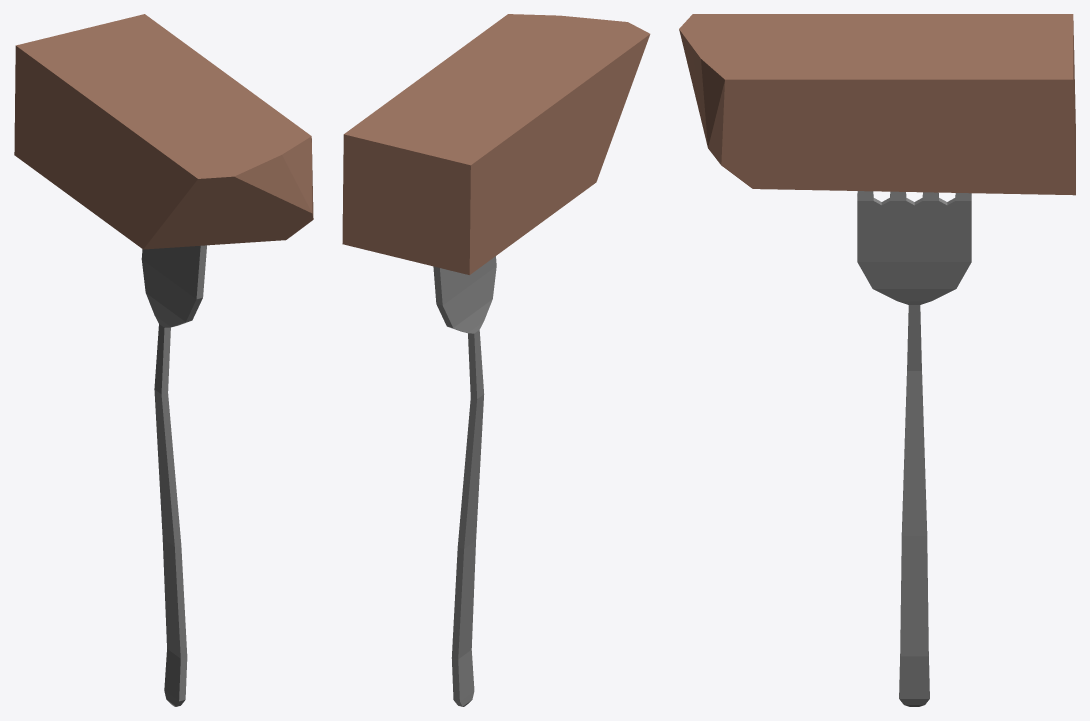
File: hammer.glb
3 renders of one model, left to right at view 1: azimuth 30°, elevation 25°; view 2: azimuth 150°, elevation 25°; view 3: azimuth 270°, elevation 25°, orthographic. The views are drawn at different scales.
Parts seen in each view (by area): view 1: Cube_cell.031, Gabel; view 2: Cube_cell.031, Gabel; view 3: Cube_cell.031, Gabel.
Part boxes in pixels (<box>): Cube_cell.031: <box>14,14,313,249</box>; Gabel: <box>141,245,206,706</box>; Cube_cell.031: <box>342,14,650,274</box>; Gabel: <box>433,256,496,706</box>; Cube_cell.031: <box>679,14,1075,195</box>; Gabel: <box>857,191,971,706</box>.
Bounding box in the file's own units: 0.0408 × 0.1886 × 0.1042.
